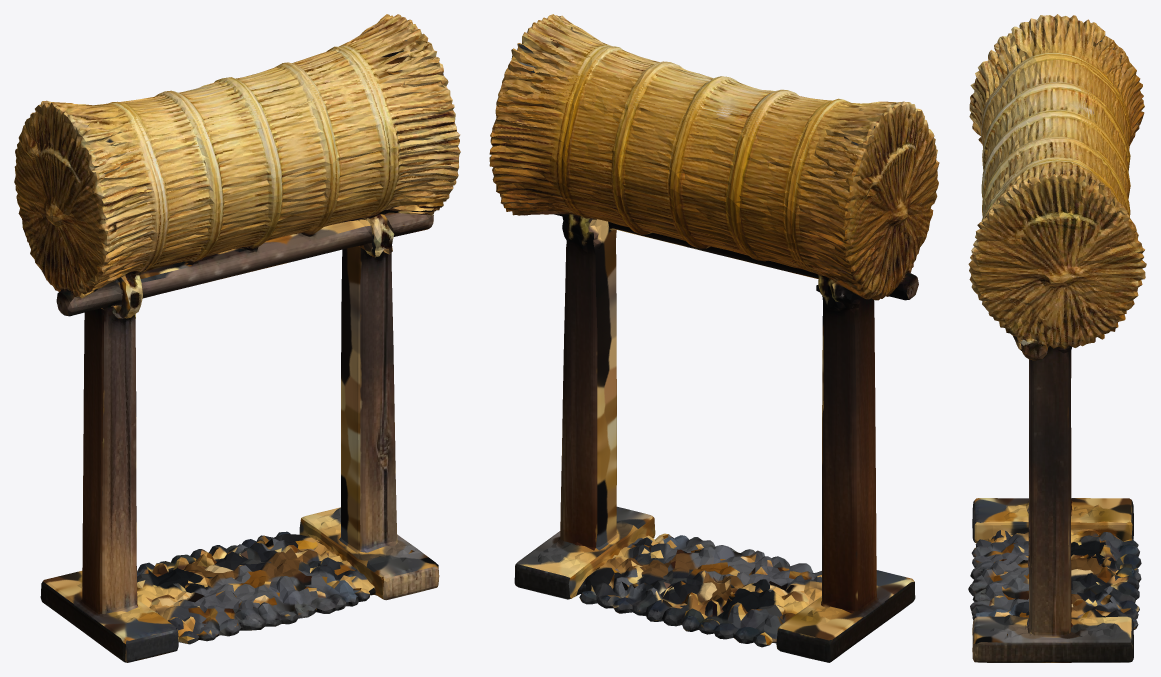
File: traveler_env_coast_kaiu_straw_target_00001_.glb
3 renders of one model, left to right at view 1: azimuth 30°, elevation 25°; view 2: azimuth 150°, elevation 25°; view 3: azimuth 270°, elevation 25°, orthographic. The views are drawn at different scales.
Visible parts, largest first — view 1: temp_mesh.ply; view 2: temp_mesh.ply; view 3: temp_mesh.ply.
Part boxes in pixels (x1=…): temp_mesh.ply: x1=14, y1=14, x2=460, y2=662; temp_mesh.ply: x1=489, y1=14, x2=939, y2=662; temp_mesh.ply: x1=968, y1=14, x2=1146, y2=662.
Size of the model in its own units: 1.26 by 1.69 by 0.55.
1 material, 1 textured.
